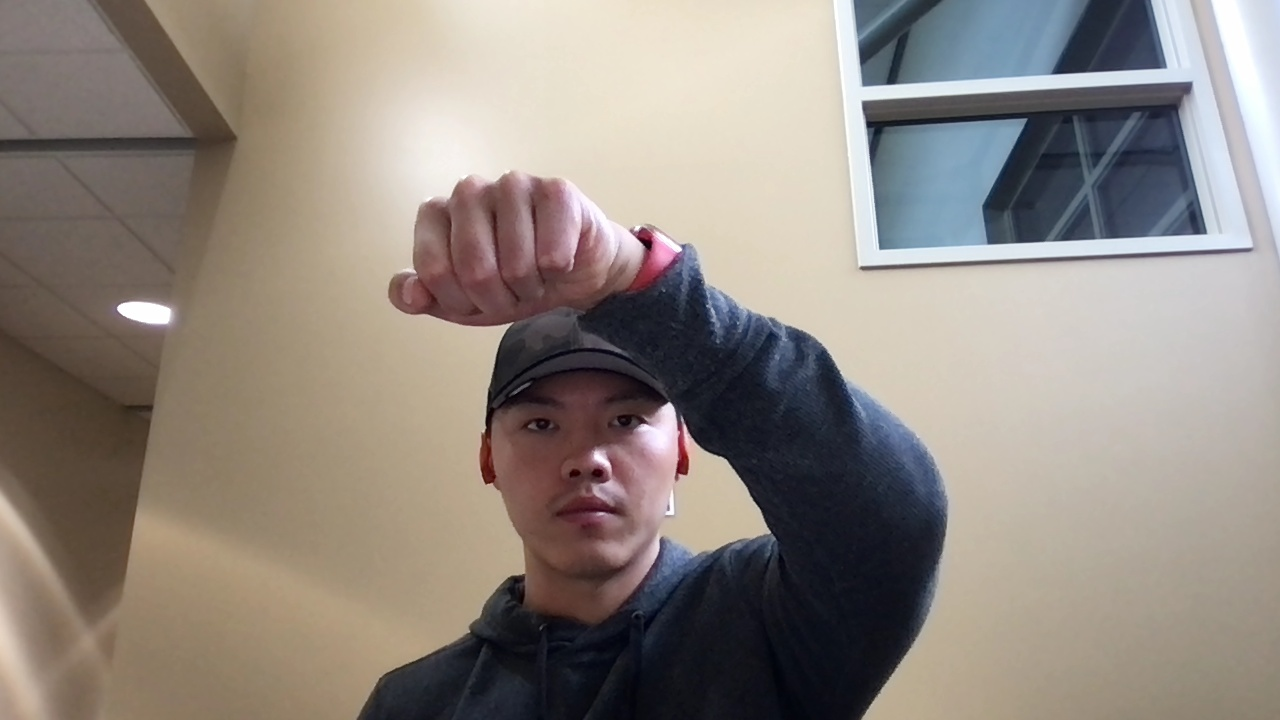Yes: (383, 167, 629, 331)
